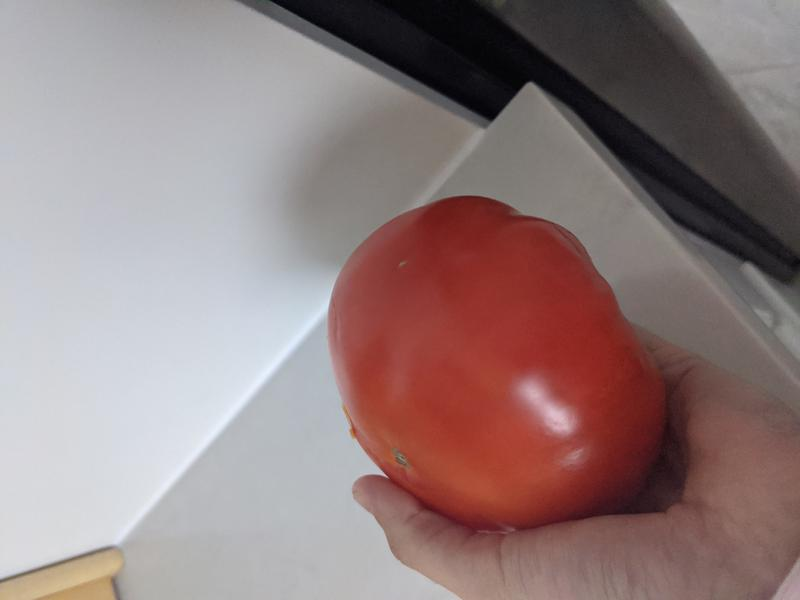tomato: (327, 195, 668, 534)
